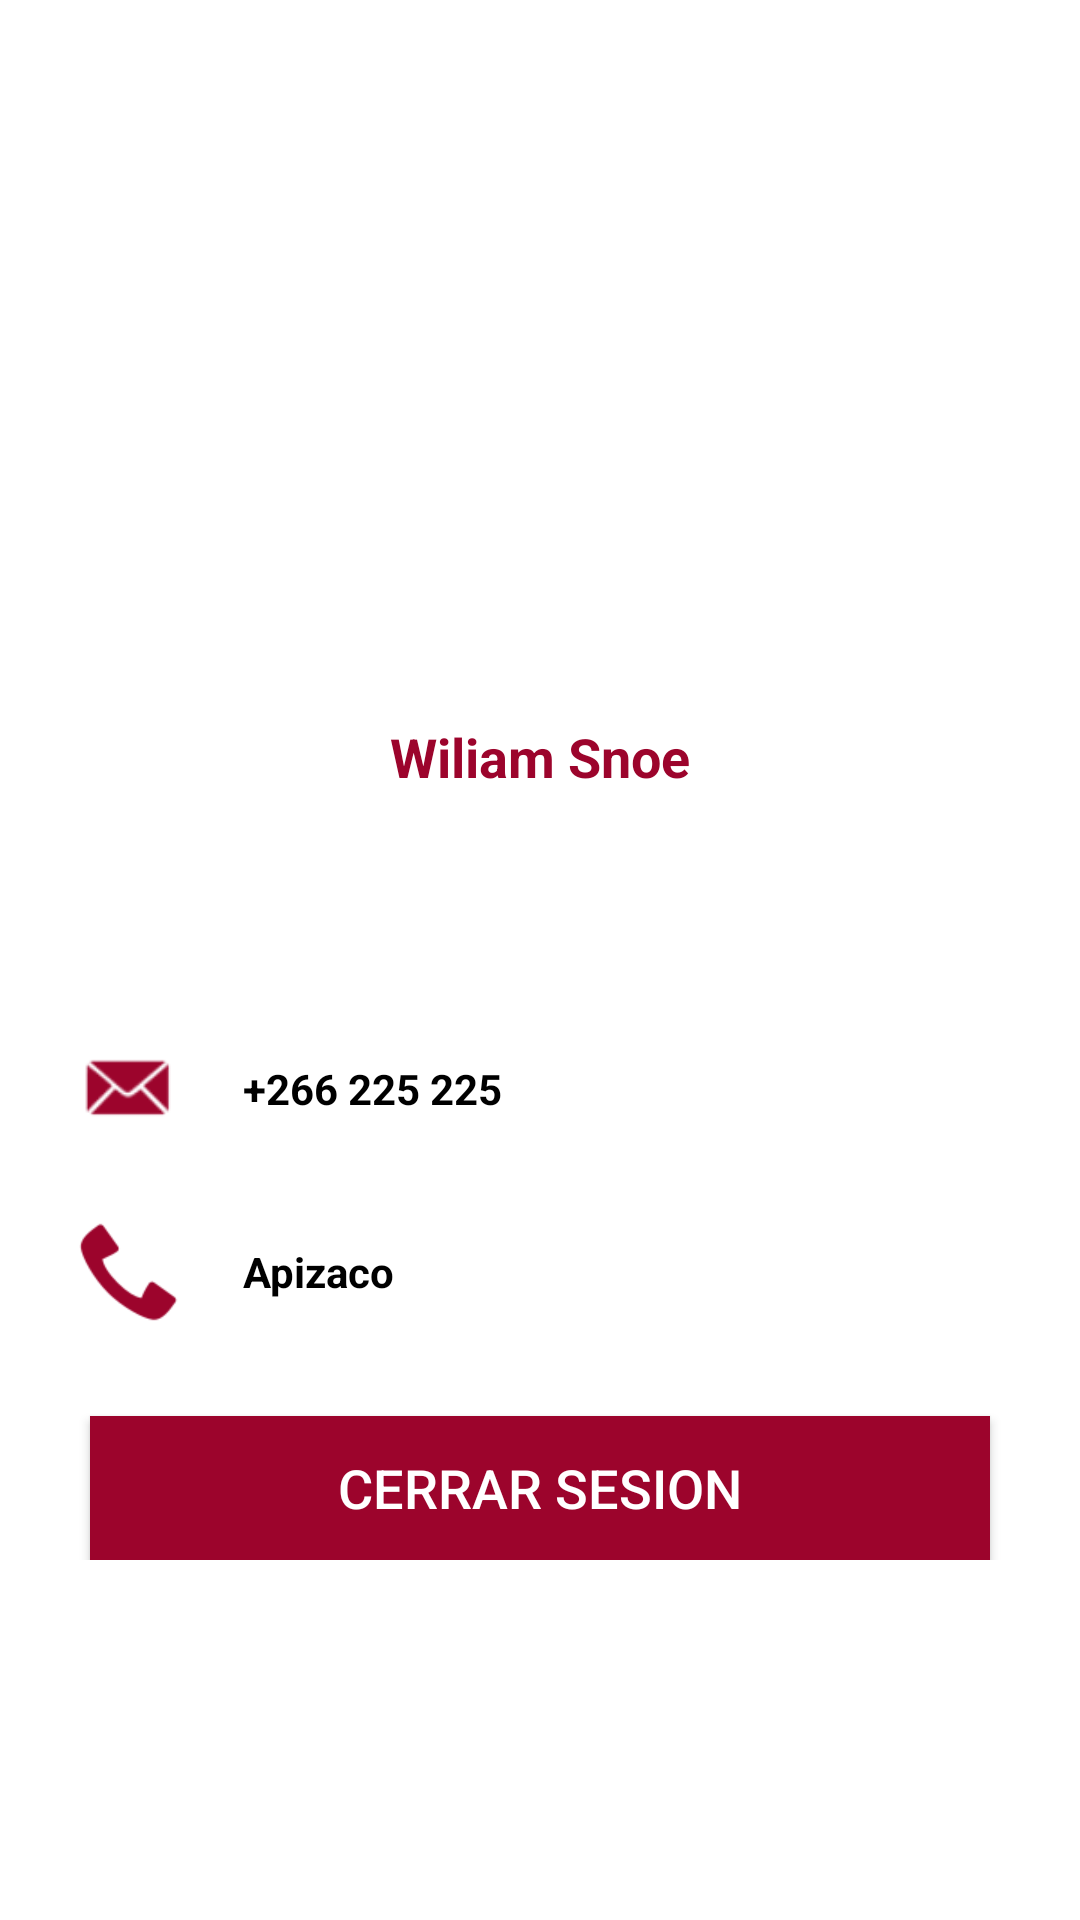

Icon bounding boxes for this 1080 x 1920 phone screenshot, format box(x1, y1, x2, y2):
phone call: box(80, 1224, 177, 1321)
sym action email: box(85, 1060, 169, 1115)
